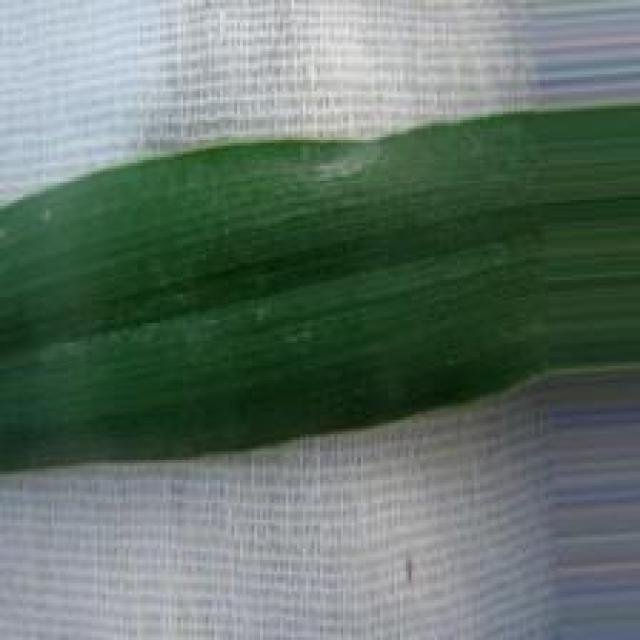Healthy: (0, 103, 640, 472)
